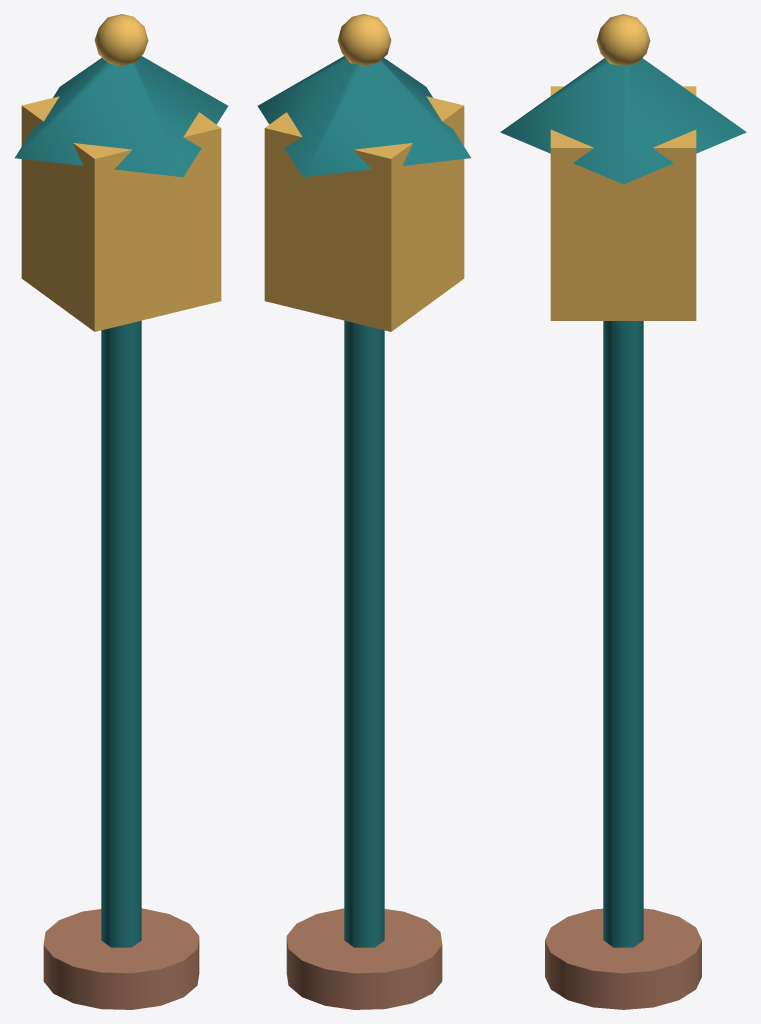
Rendered from deco_lamp.glb.
The picture shows the model from 3 angles, left to right: view 1: azimuth 30°, elevation 25°; view 2: azimuth 150°, elevation 25°; view 3: azimuth 270°, elevation 25°; orthographic projection.
Visible parts, largest first — view 1: deco_lamp; view 2: deco_lamp; view 3: deco_lamp.
Part boxes in pixels (x1=…): deco_lamp: x1=15, y1=14, x2=228, y2=1009; deco_lamp: x1=257, y1=14, x2=470, y2=1009; deco_lamp: x1=500, y1=14, x2=746, y2=1009.
Size of the model in its own units: 1.1 by 4.72 by 1.1.
